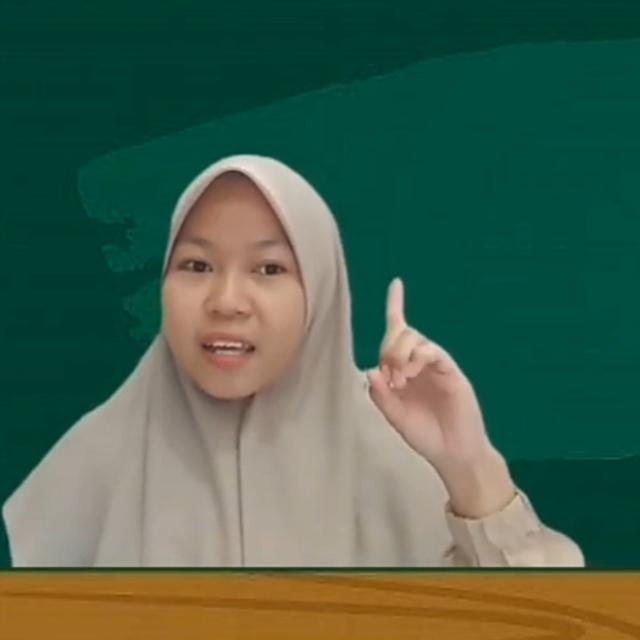D: (361, 273, 487, 459)
